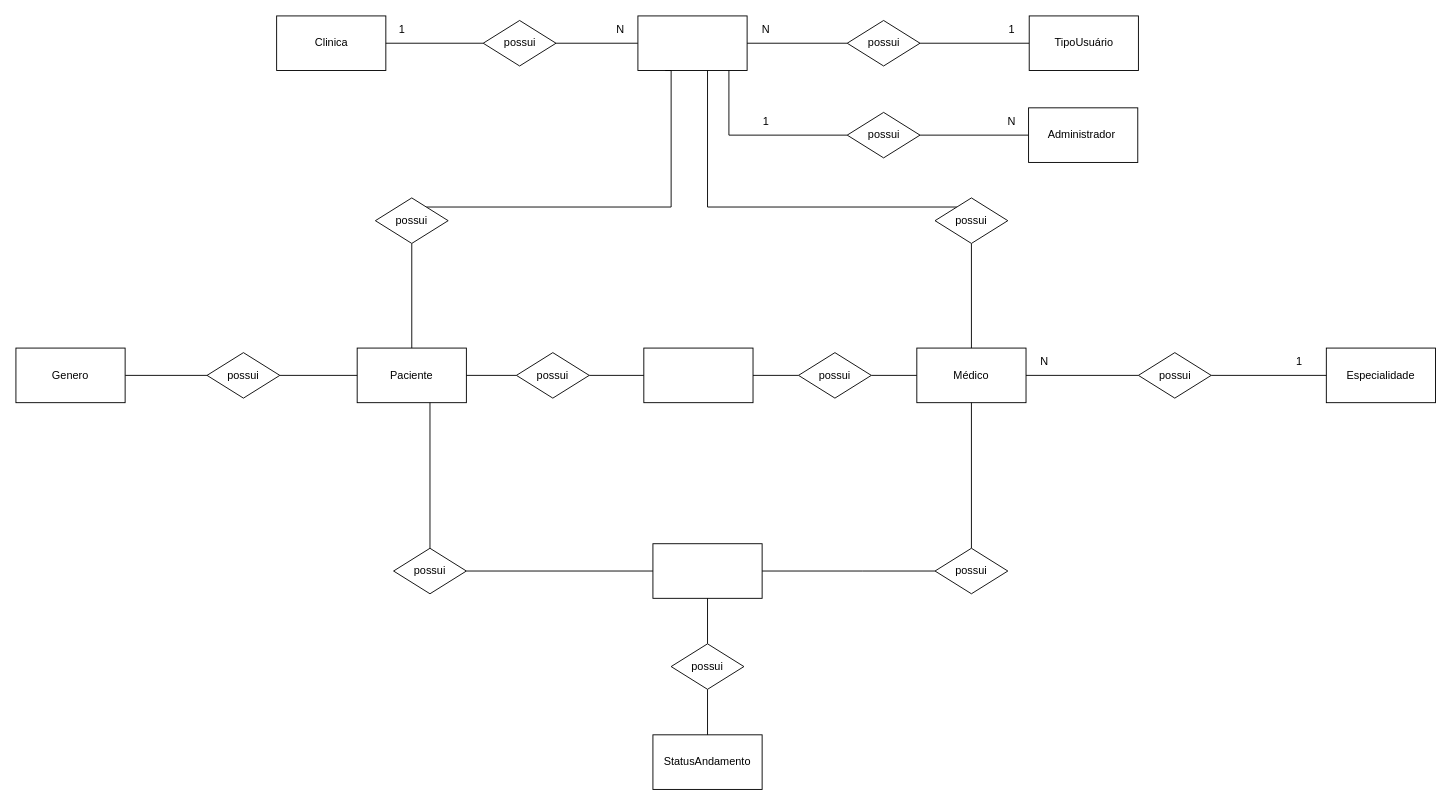
The diagram is 1451 pixels wide and 805 high, and some of its shapes have lost their labels. The box of each missing label's shape, as (x1, y1, x2, y2) in pixels:
Consulta: (652, 543, 762, 598)
Endereco: (643, 347, 753, 403)
Usuário: (637, 15, 747, 71)
